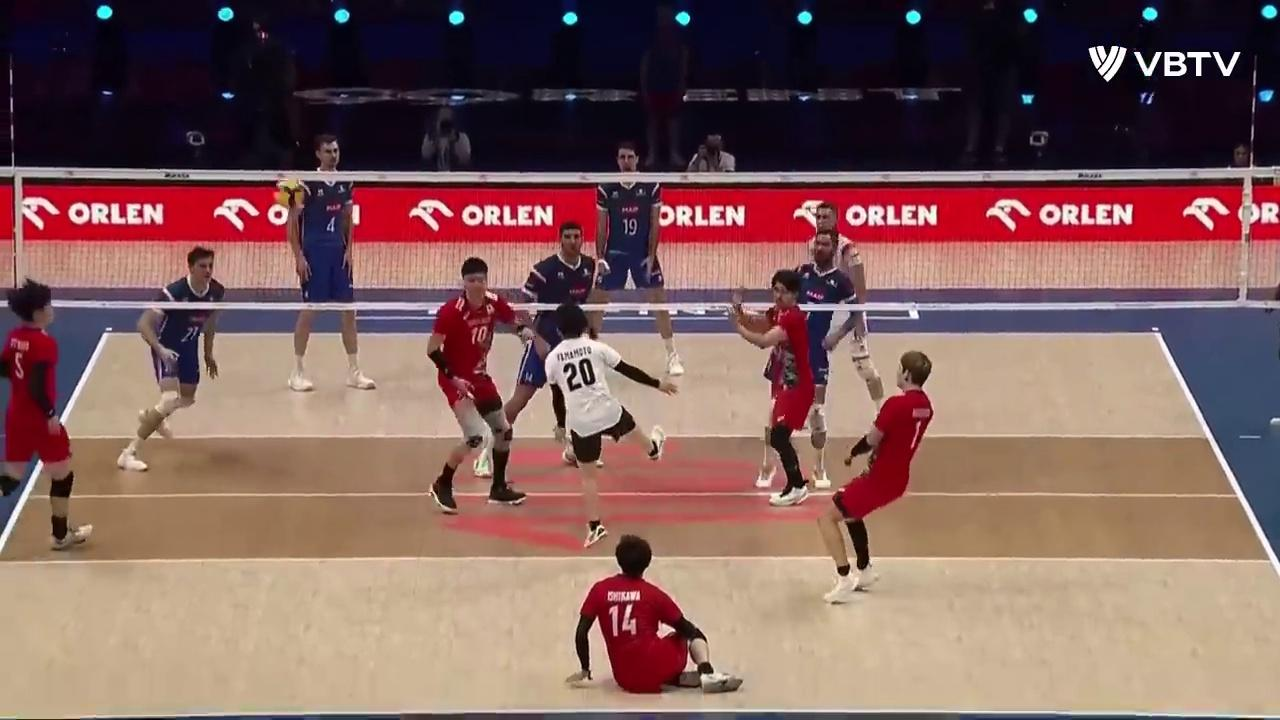ball: (275, 178, 308, 213)
